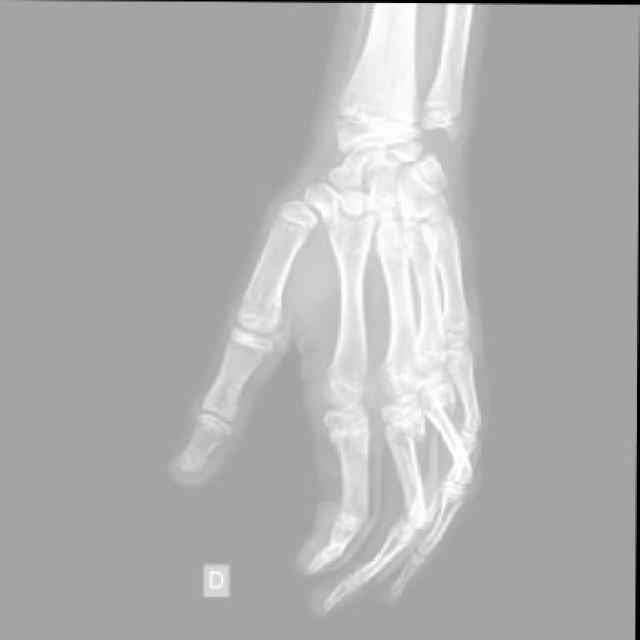Fracture: (380, 406, 421, 459), (416, 382, 453, 435)
